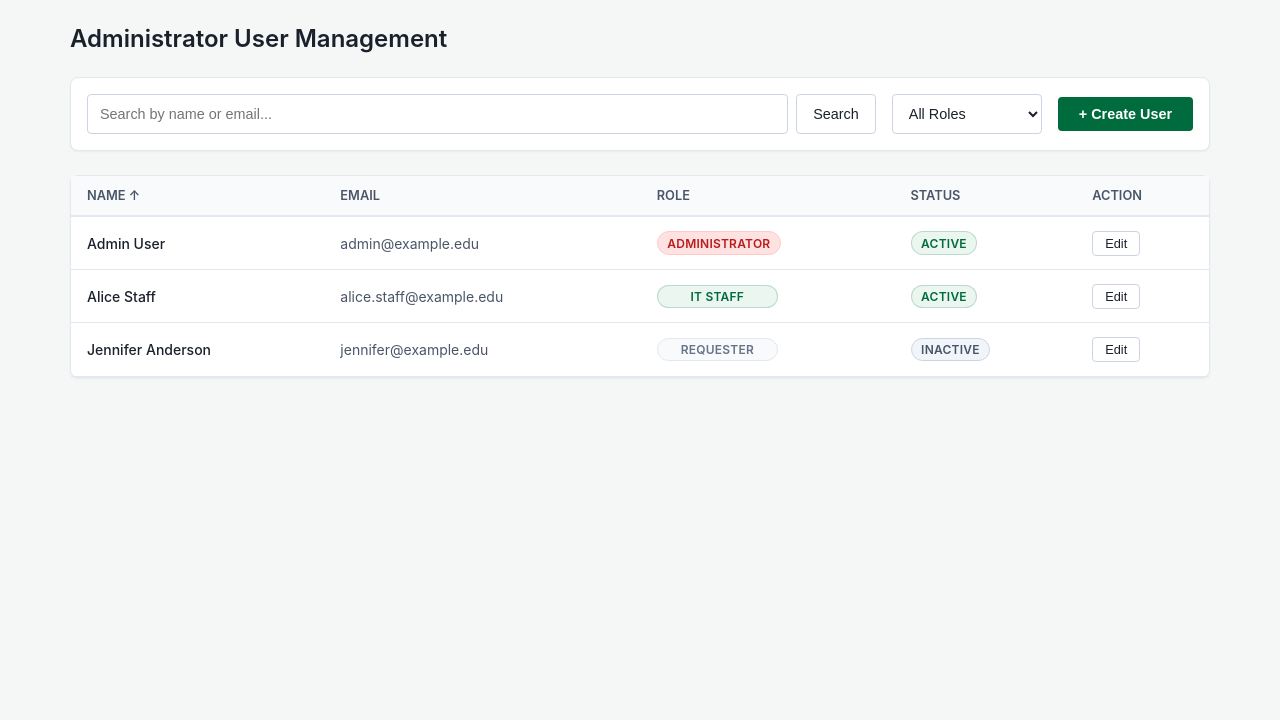
Test case: AdminUserManagement Component (UI-ADMIN-*) › UI-ADMIN-02: clicking Create User button opens the create modal
Expected: the text "Admin User" is shown, [71,216,324,270]
Click the button "+ Create User" at (1125, 114), box [1058,97,1193,131]
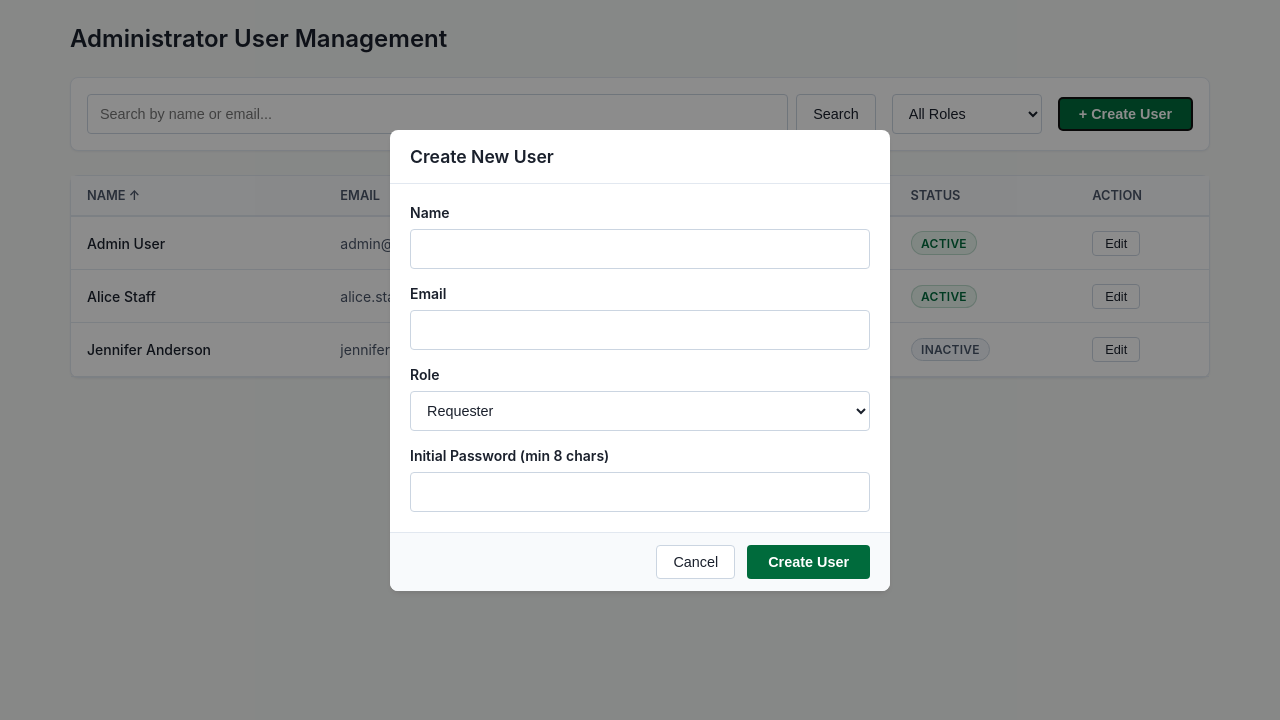
Now the field labelled "Name" is shown, box [410,228,870,268]
